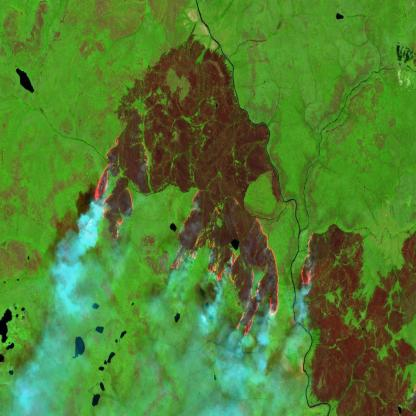fire: (82, 129, 287, 343), (298, 226, 327, 297)
